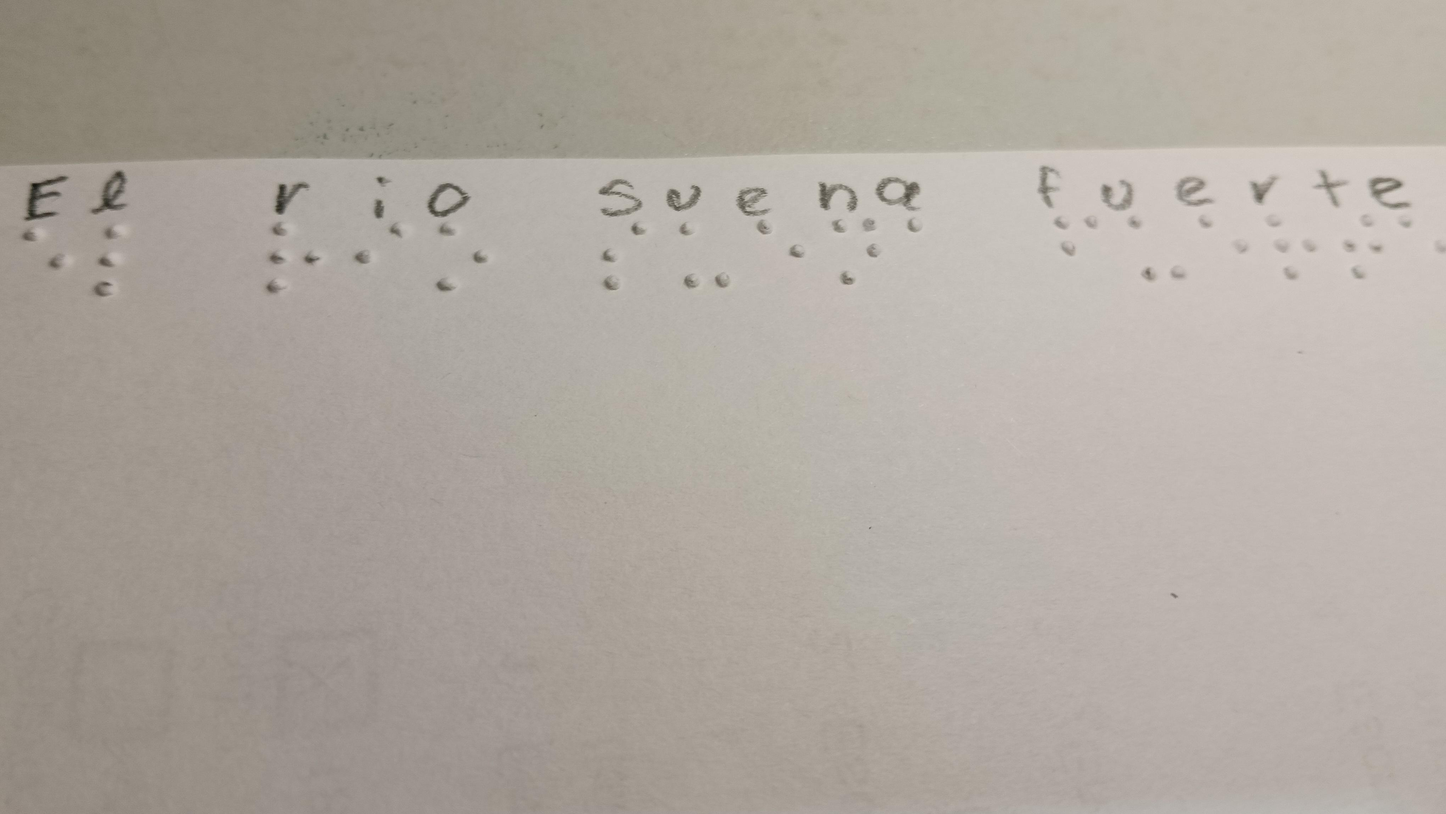a: (891, 204, 945, 248)
e: (1389, 207, 1446, 289), (748, 214, 812, 277), (1186, 211, 1255, 264), (18, 223, 73, 285)
f: (1030, 213, 1109, 262)
i: (344, 218, 416, 285)
l: (89, 214, 136, 310)
n: (815, 211, 884, 292)
o: (422, 220, 494, 300)
r: (243, 211, 328, 301), (1258, 207, 1327, 287)
s: (576, 218, 665, 291)
t: (1333, 211, 1389, 287)
u: (666, 211, 735, 294), (1118, 214, 1189, 291)
